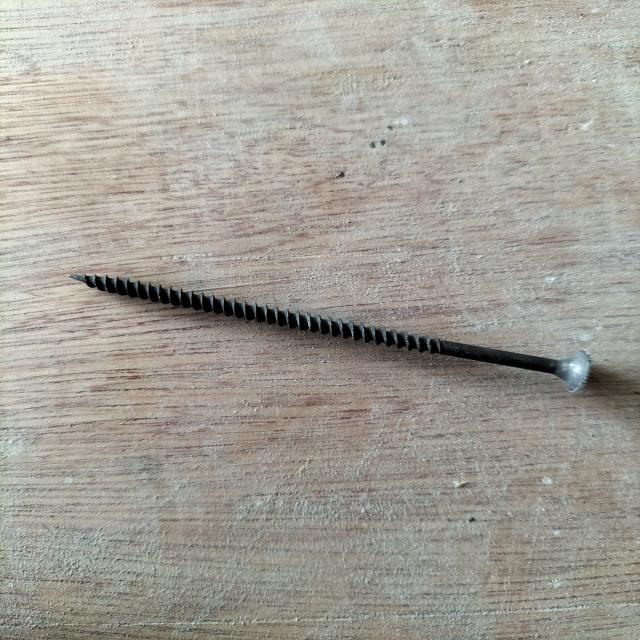screw: (67, 271, 590, 394)
